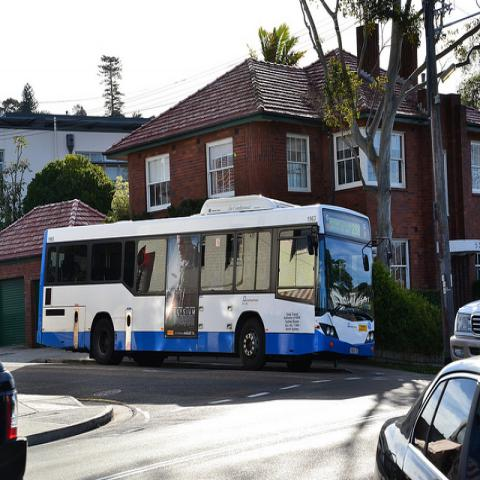bus: (39, 202, 376, 370)
car: (375, 353, 479, 473), (0, 364, 28, 478), (450, 299, 479, 364)
truck: (449, 299, 479, 361)
